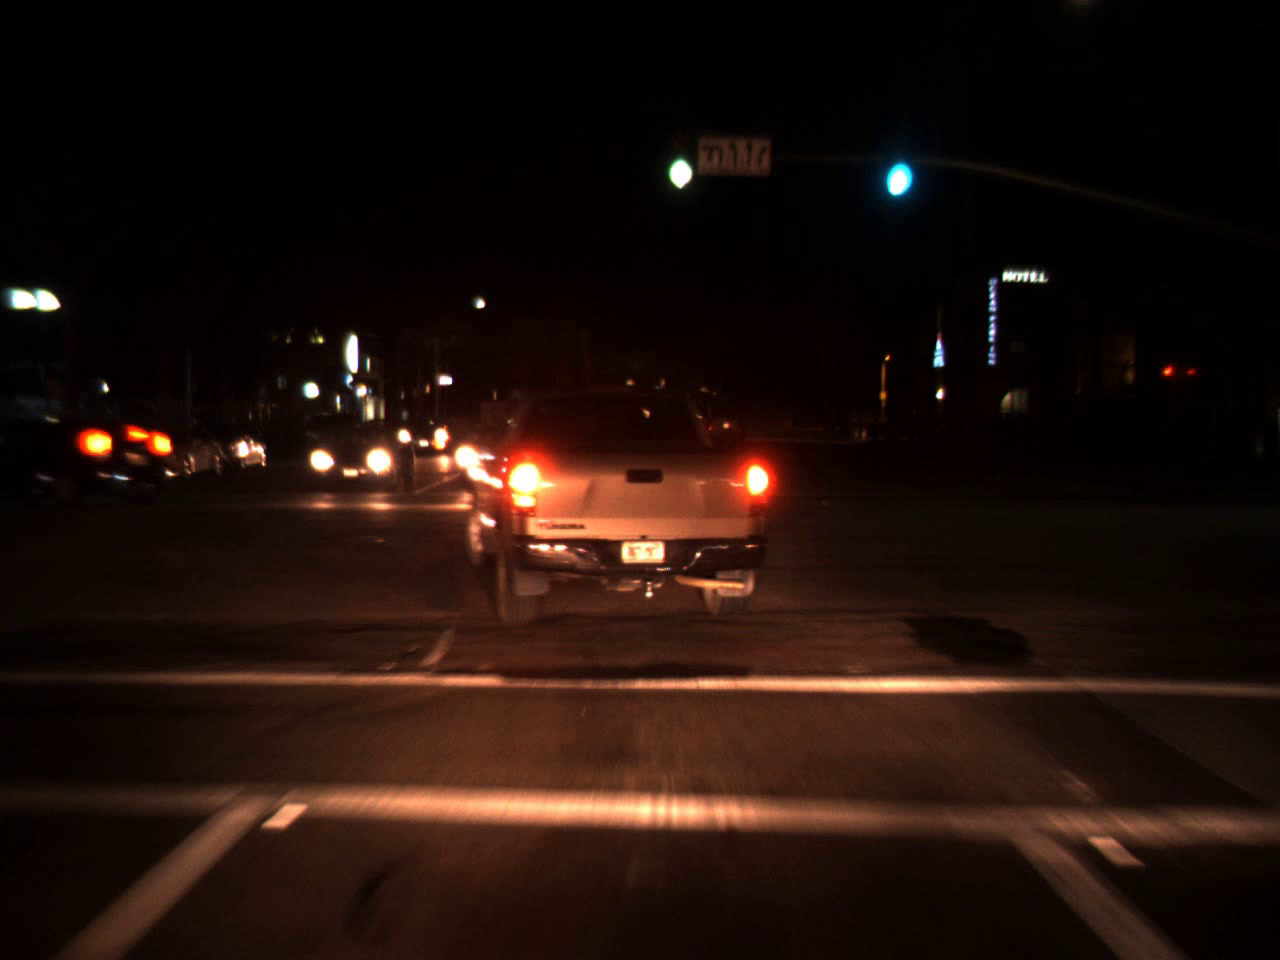go: (873, 128, 916, 206), (660, 120, 697, 201)
